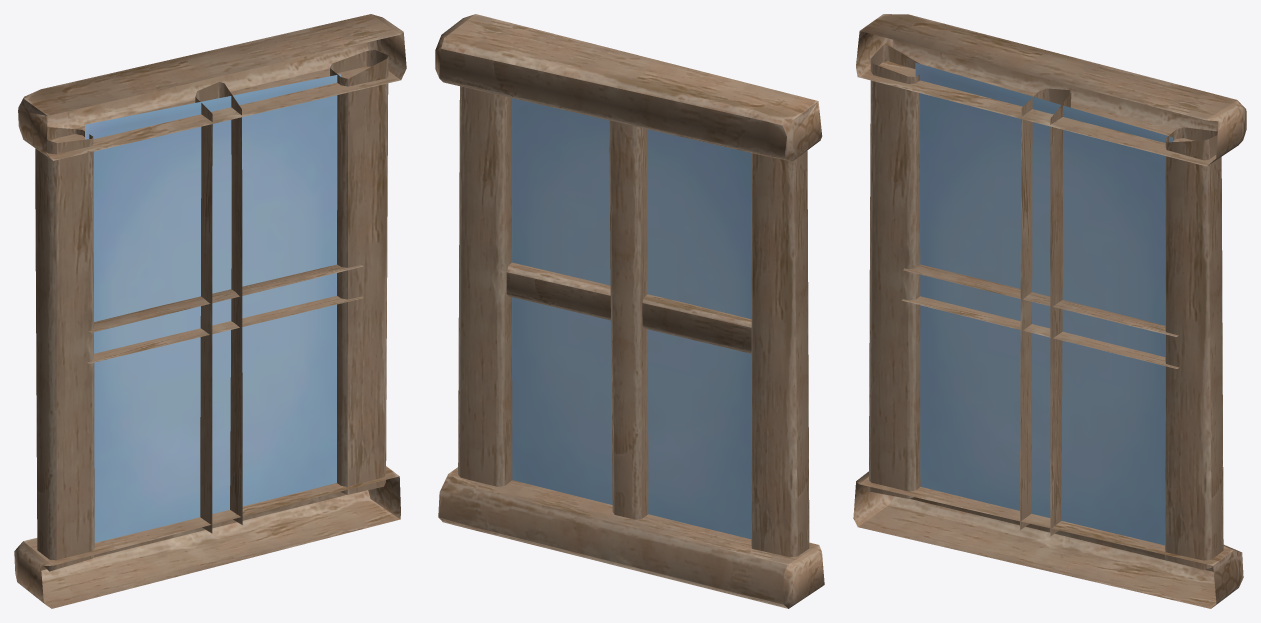
File: Window_02.fbx
3 renders of one model, left to right at view 1: azimuth 30°, elevation 25°; view 2: azimuth 150°, elevation 25°; view 3: azimuth 330°, elevation 25°, orthographic.
Parts seen in each view (by area): view 1: Window_02; view 2: Window_02; view 3: Window_02.
Boxes of the visible parts, x1,y1,x2,y2 form: Window_02: (14,14,406,608); Window_02: (435,14,824,608); Window_02: (853,14,1246,608).
Size of the model in its own units: 0.7743 by 1.01 by 0.1315.
